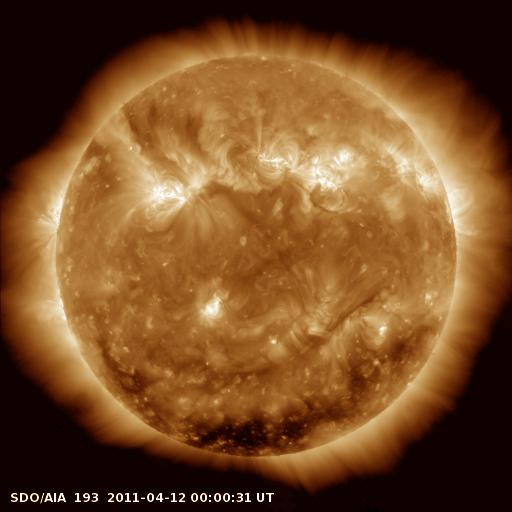coronal_hole: (185, 402, 334, 469), (101, 343, 155, 398)
